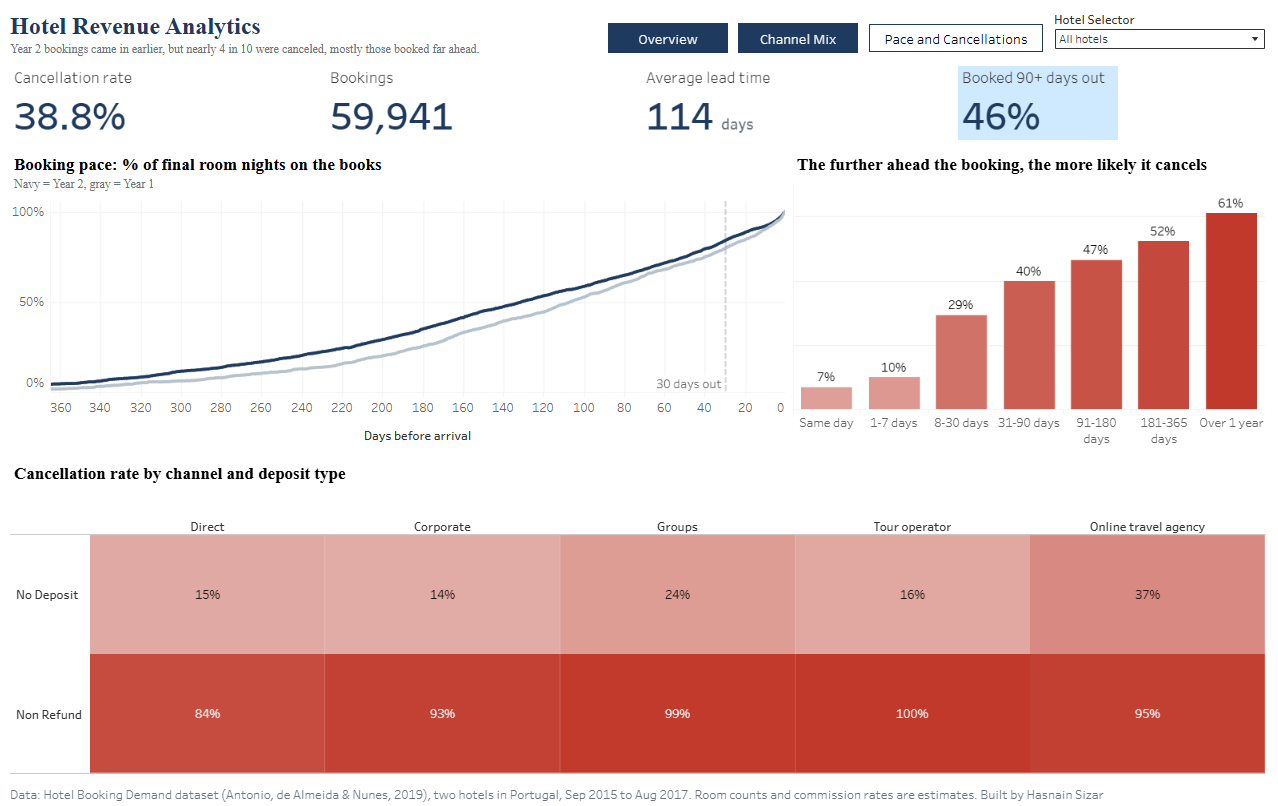

The dashboard page shown, as its layout file describes it:
{"tool":"tableau","page":{"name":"Pace and Cancellations","canvas":[1280,820],"ordinal":2},"visuals":[{"type":"text","box":[8,8,1044,53]},{"type":"parameter","param":"[Parameters].[Parameter 3123986986201088]","box":[1052,8,220,53]},{"type":"dashboard-object","box":[610,25,120,30]},{"type":"dashboard-object","box":[740,25,120,30]},{"type":"dashboard-object","box":[870,25,176,30]},{"type":"worksheet","title":"KPI Cancellation rate","mark":"Automatic","box":[8,61,316,80]},{"type":"worksheet","title":"KPI Bookings","mark":"Automatic","box":[324,61,316,80]},{"type":"worksheet","title":"KPI Lead Time","mark":"Automatic","box":[640,61,316,80]},{"type":"worksheet","title":"KPI 90 Days","mark":"Automatic","box":[956,61,316,80]},{"type":"worksheet","title":"Booking Pace","mark":"Line","rows":["pct_of_final"],"cols":["days_before_arrival"],"box":[8,141,783,314]},{"type":"worksheet","title":"Cancel by Lead Time","mark":"Bar","rows":["Calculation_3123987000131625"],"cols":["lead_time_band"],"box":[791,141,481,314]},{"type":"worksheet","title":"Cancel Heatmap","mark":"Square","rows":["deposit_type"],"cols":["channel"],"box":[8,455,1264,325]},{"type":"text","box":[8,780,1264,32]}]}

Visuals, with their boxes in screenshot pixels (x1, y1, x2, y2), scaled from the page's 1280x820 canvas onto the 1278x806 screenshot:
text: pyautogui.locateOnScreen(8, 8, 1050, 60)
parameter: pyautogui.locateOnScreen(1050, 8, 1270, 60)
dashboard-object: pyautogui.locateOnScreen(609, 25, 729, 54)
dashboard-object: pyautogui.locateOnScreen(739, 25, 859, 54)
dashboard-object: pyautogui.locateOnScreen(869, 25, 1044, 54)
"KPI Cancellation rate" worksheet: pyautogui.locateOnScreen(8, 60, 323, 139)
"KPI Bookings" worksheet: pyautogui.locateOnScreen(323, 60, 639, 139)
"KPI Lead Time" worksheet: pyautogui.locateOnScreen(639, 60, 955, 139)
"KPI 90 Days" worksheet: pyautogui.locateOnScreen(955, 60, 1270, 139)
"Booking Pace" worksheet (Line marks): pyautogui.locateOnScreen(8, 139, 790, 447)
"Cancel by Lead Time" worksheet (Bar marks): pyautogui.locateOnScreen(790, 139, 1270, 447)
"Cancel Heatmap" worksheet (Square marks): pyautogui.locateOnScreen(8, 447, 1270, 767)
text: pyautogui.locateOnScreen(8, 767, 1270, 798)
